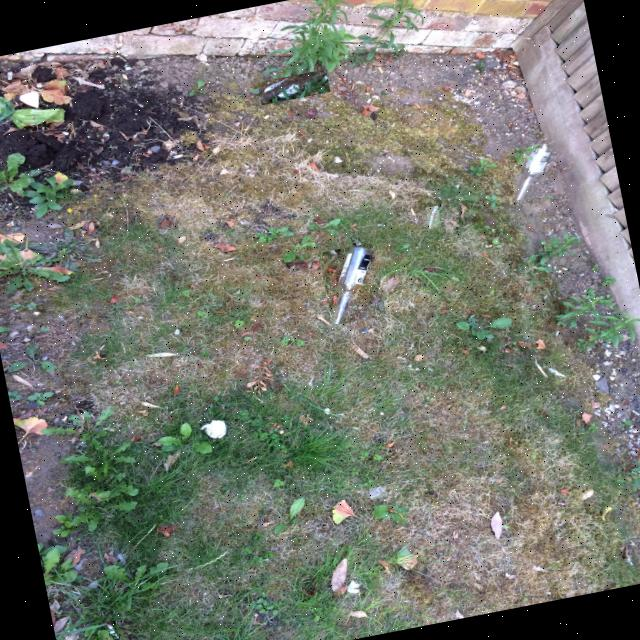Cigarette: (378, 67, 384, 74), (174, 156, 179, 157)
Glass bottle: (333, 246, 374, 324), (516, 143, 555, 202), (260, 70, 327, 104)
Plastic film: (370, 487, 387, 499)
Unlabeled litter: (201, 421, 227, 439), (430, 206, 438, 229), (108, 622, 119, 637)
